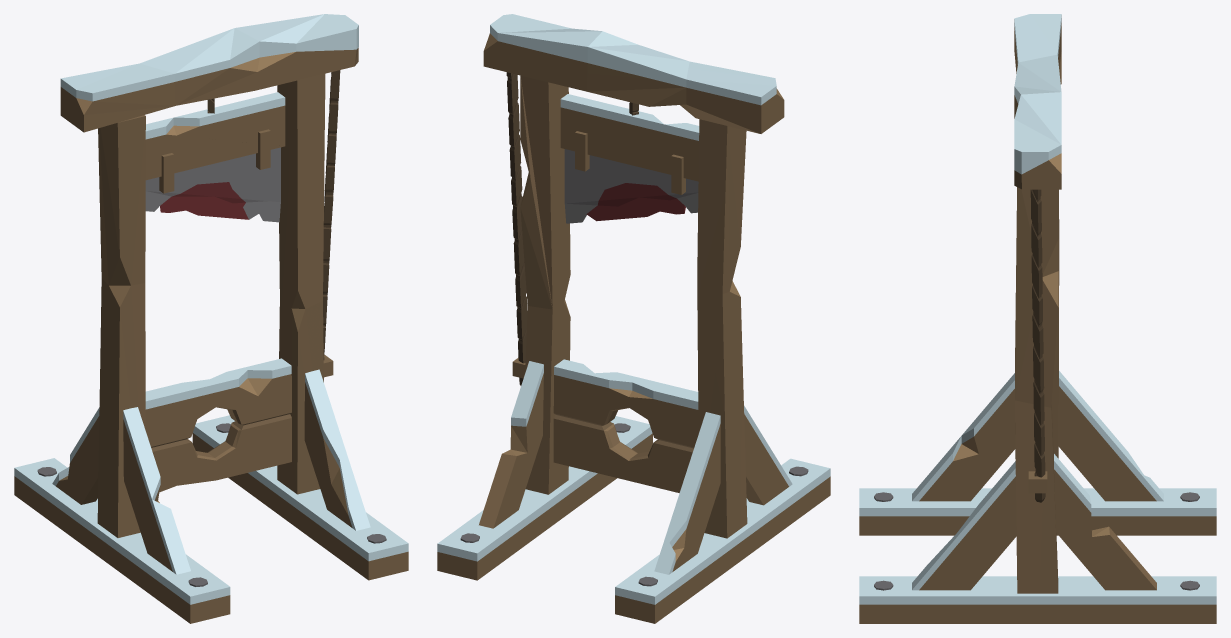
Rendered from SM_Prop_Guillotine_01_Snow.gltf.
The picture shows the model from 3 angles, left to right: view 1: azimuth 30°, elevation 25°; view 2: azimuth 150°, elevation 25°; view 3: azimuth 270°, elevation 25°; orthographic projection.
Parts seen in each view (by area): view 1: SM_Prop_Guillotine_01_Snow; view 2: SM_Prop_Guillotine_01_Snow; view 3: SM_Prop_Guillotine_01_Snow.
Boxes of the visible parts, x1,y1,x2,y2 form: SM_Prop_Guillotine_01_Snow: (14, 14, 408, 623); SM_Prop_Guillotine_01_Snow: (437, 14, 830, 623); SM_Prop_Guillotine_01_Snow: (859, 14, 1216, 623).
Bounding box in the file's own units: 1.99 × 3.34 × 2.18.
Materials: 1 (1 with a texture image).
